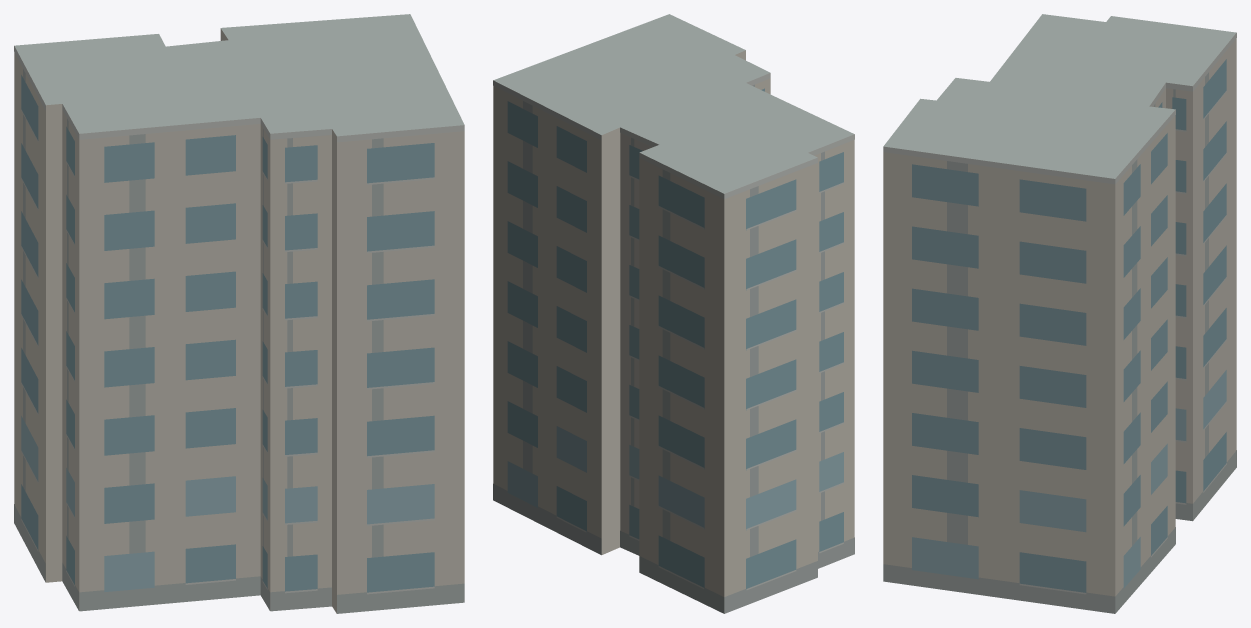
Rendered from survey-upis-32824210.glb.
3 views of the same model, side by side, from view 1: azimuth 30°, elevation 25°; view 2: azimuth 150°, elevation 25°; view 3: azimuth 270°, elevation 25° (orthographic). The views are drawn at different scales.
Visible parts, largest first — view 1: survey-upis-32824210.tmp; view 2: survey-upis-32824210.tmp; view 3: survey-upis-32824210.tmp.
Boxes of the visible parts, x1,y1,x2,y2 form: survey-upis-32824210.tmp: (14, 14, 464, 613); survey-upis-32824210.tmp: (493, 14, 854, 613); survey-upis-32824210.tmp: (883, 14, 1236, 613).
Size of the model in its own units: 15.63 by 19.2 by 14.15.
